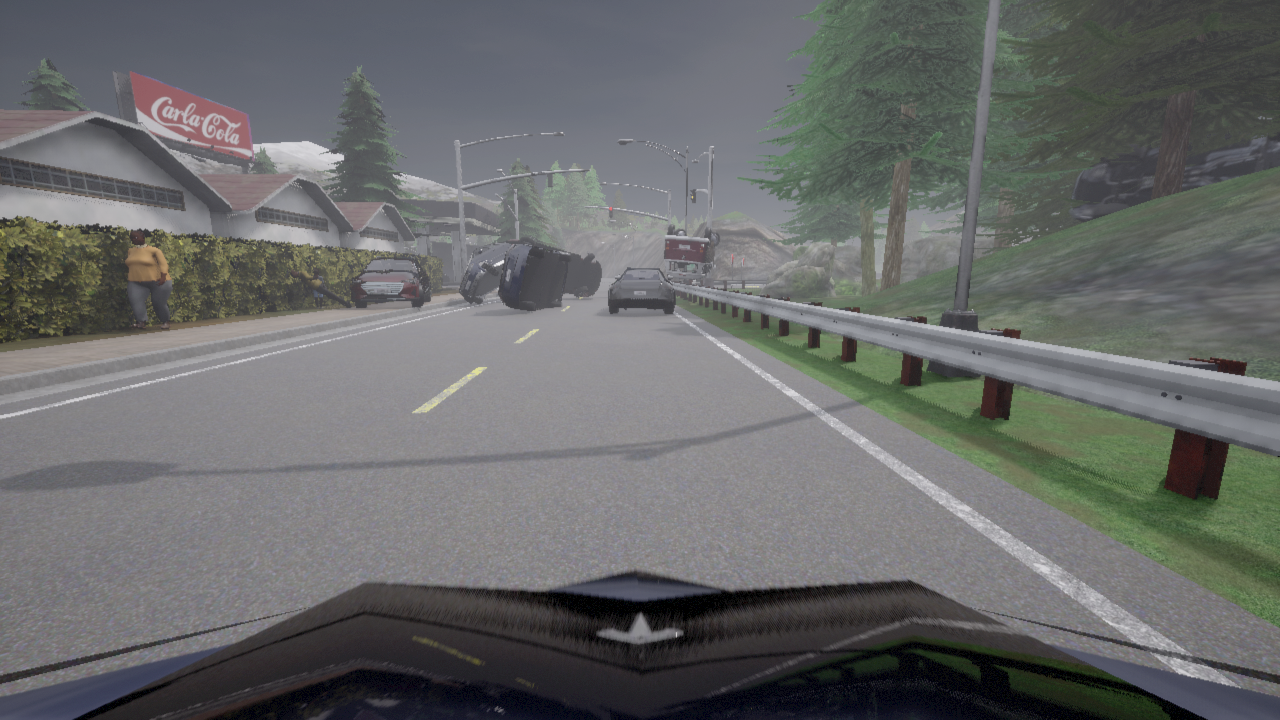cyclist: (0, 569, 1279, 719), (1069, 131, 1279, 222), (506, 236, 601, 297), (498, 244, 571, 310), (350, 256, 431, 307), (459, 242, 512, 304), (664, 224, 719, 279), (608, 268, 675, 313), (441, 273, 449, 282)
pedestrian: (124, 230, 172, 328), (291, 270, 351, 307), (311, 269, 323, 308)
